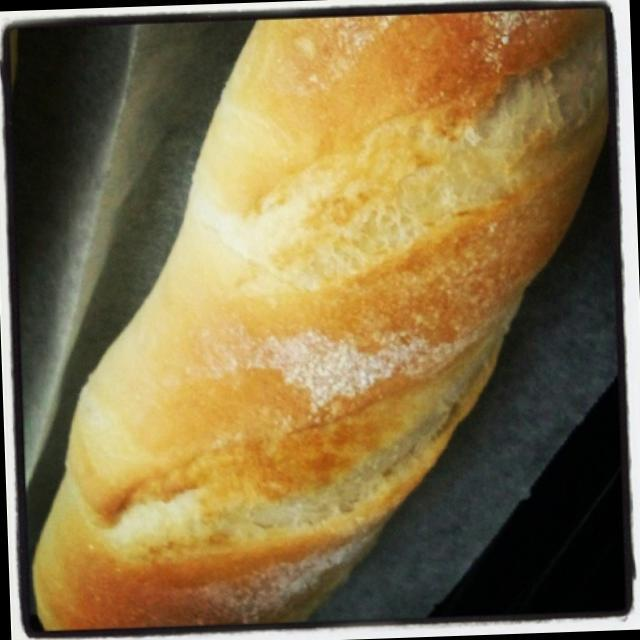Bread: (18, 10, 630, 638)
